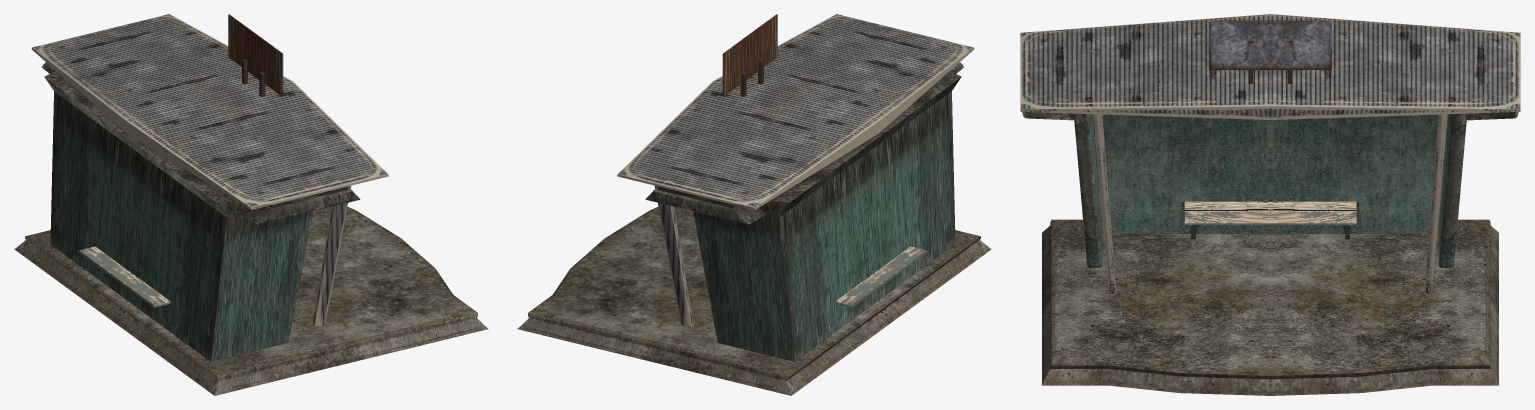
3 renders of one model, left to right at view 1: azimuth 30°, elevation 25°; view 2: azimuth 150°, elevation 25°; view 3: azimuth 270°, elevation 25°, orthographic. The views are drawn at different scales.
Parts seen in each view (by area): view 1: Cube (×6); view 2: Cube (×6); view 3: Cube (×6).
Part boxes in pixels (bbox=[...]): Cube (×6): bbox=[14, 14, 488, 395]; Cube (×6): bbox=[517, 14, 991, 395]; Cube (×6): bbox=[1020, 14, 1520, 395].
Bounding box in the file's own units: 1.54 × 1.28 × 2.
Materials: 7 (7 with a texture image).
